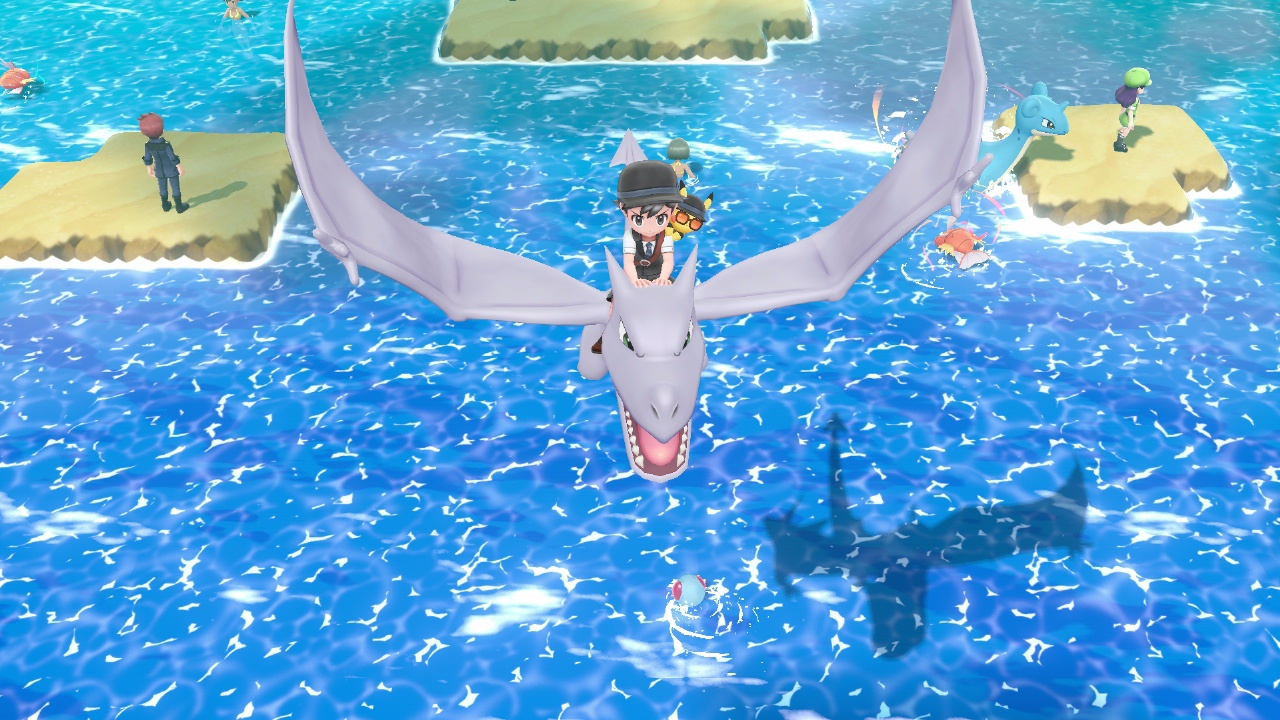Red: (937, 222, 991, 270), (1, 57, 41, 101)
